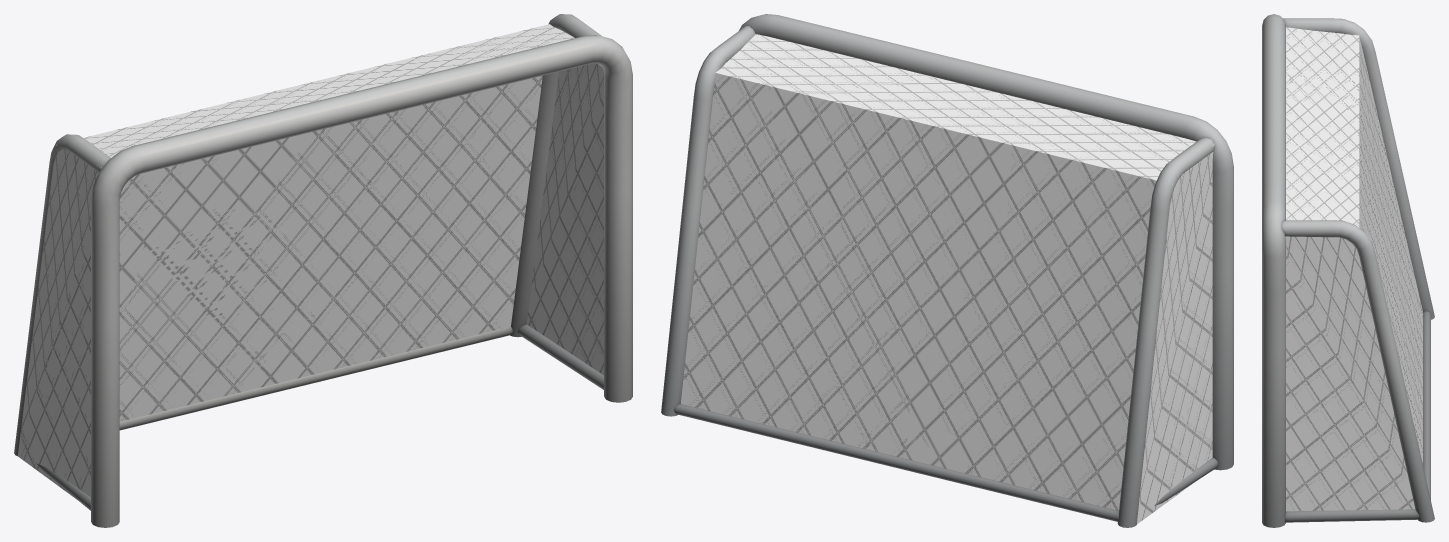
The model's file is football_gates_2.fbx.
3 renders of one model, left to right at view 1: azimuth 30°, elevation 25°; view 2: azimuth 150°, elevation 25°; view 3: azimuth 270°, elevation 25°, orthographic. The views are drawn at different scales.
Visible parts, largest first — view 1: goal_net, football_gates_2; view 2: goal_net, football_gates_2; view 3: goal_net, football_gates_2.
Part boxes in pixels (bbox=[...]): goal_net: bbox=[18, 24, 603, 499]; football_gates_2: bbox=[14, 14, 632, 527]; goal_net: bbox=[681, 34, 1214, 524]; football_gates_2: bbox=[661, 14, 1233, 527]; goal_net: bbox=[1285, 27, 1422, 511]; football_gates_2: bbox=[1262, 14, 1434, 527].
Bounding box in the file's own units: 330 × 215 × 109.
